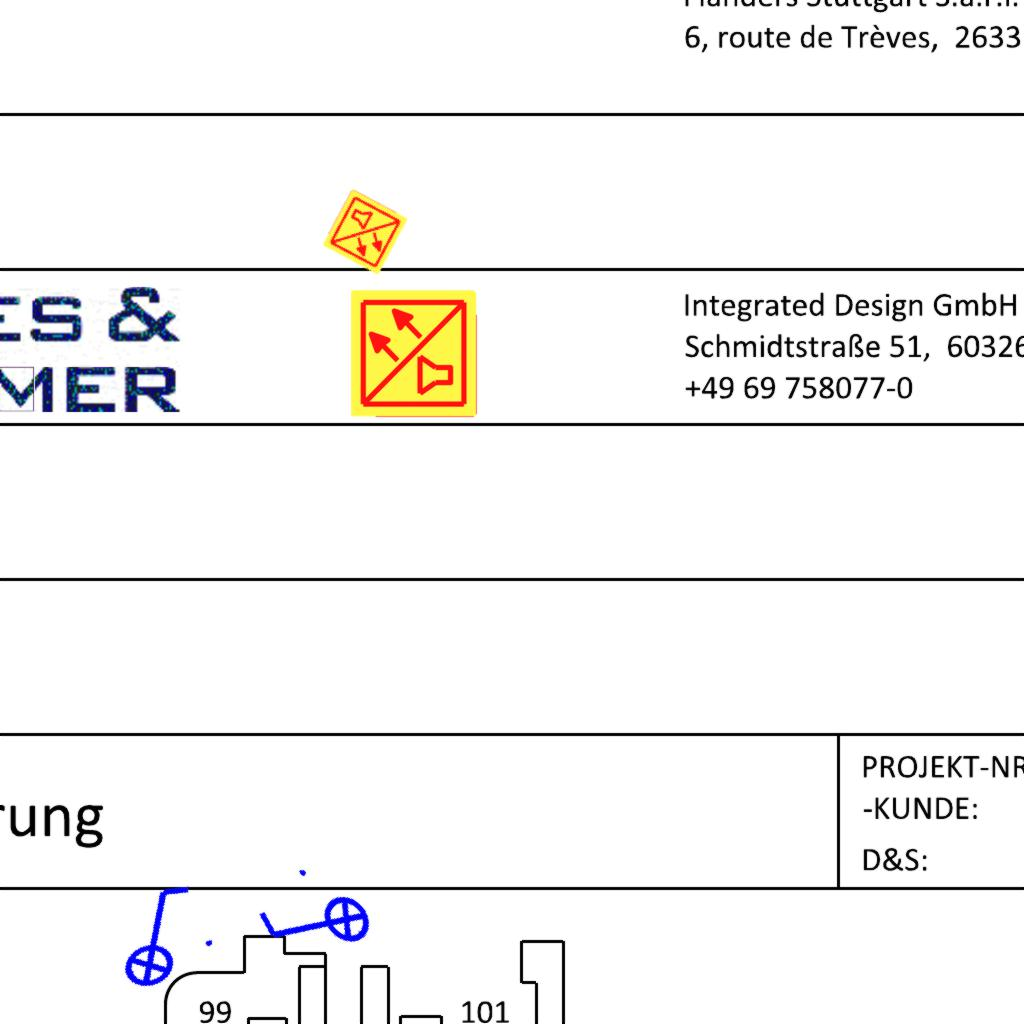Ausschalter_beleuchtet: (242, 851, 390, 999), (86, 870, 226, 1000)
OKW_Multisensormelder_(Kombination_optischer_Rauch-Kahlenmonoxid_Waerme-Melder): (348, 287, 480, 419), (320, 187, 410, 277)
